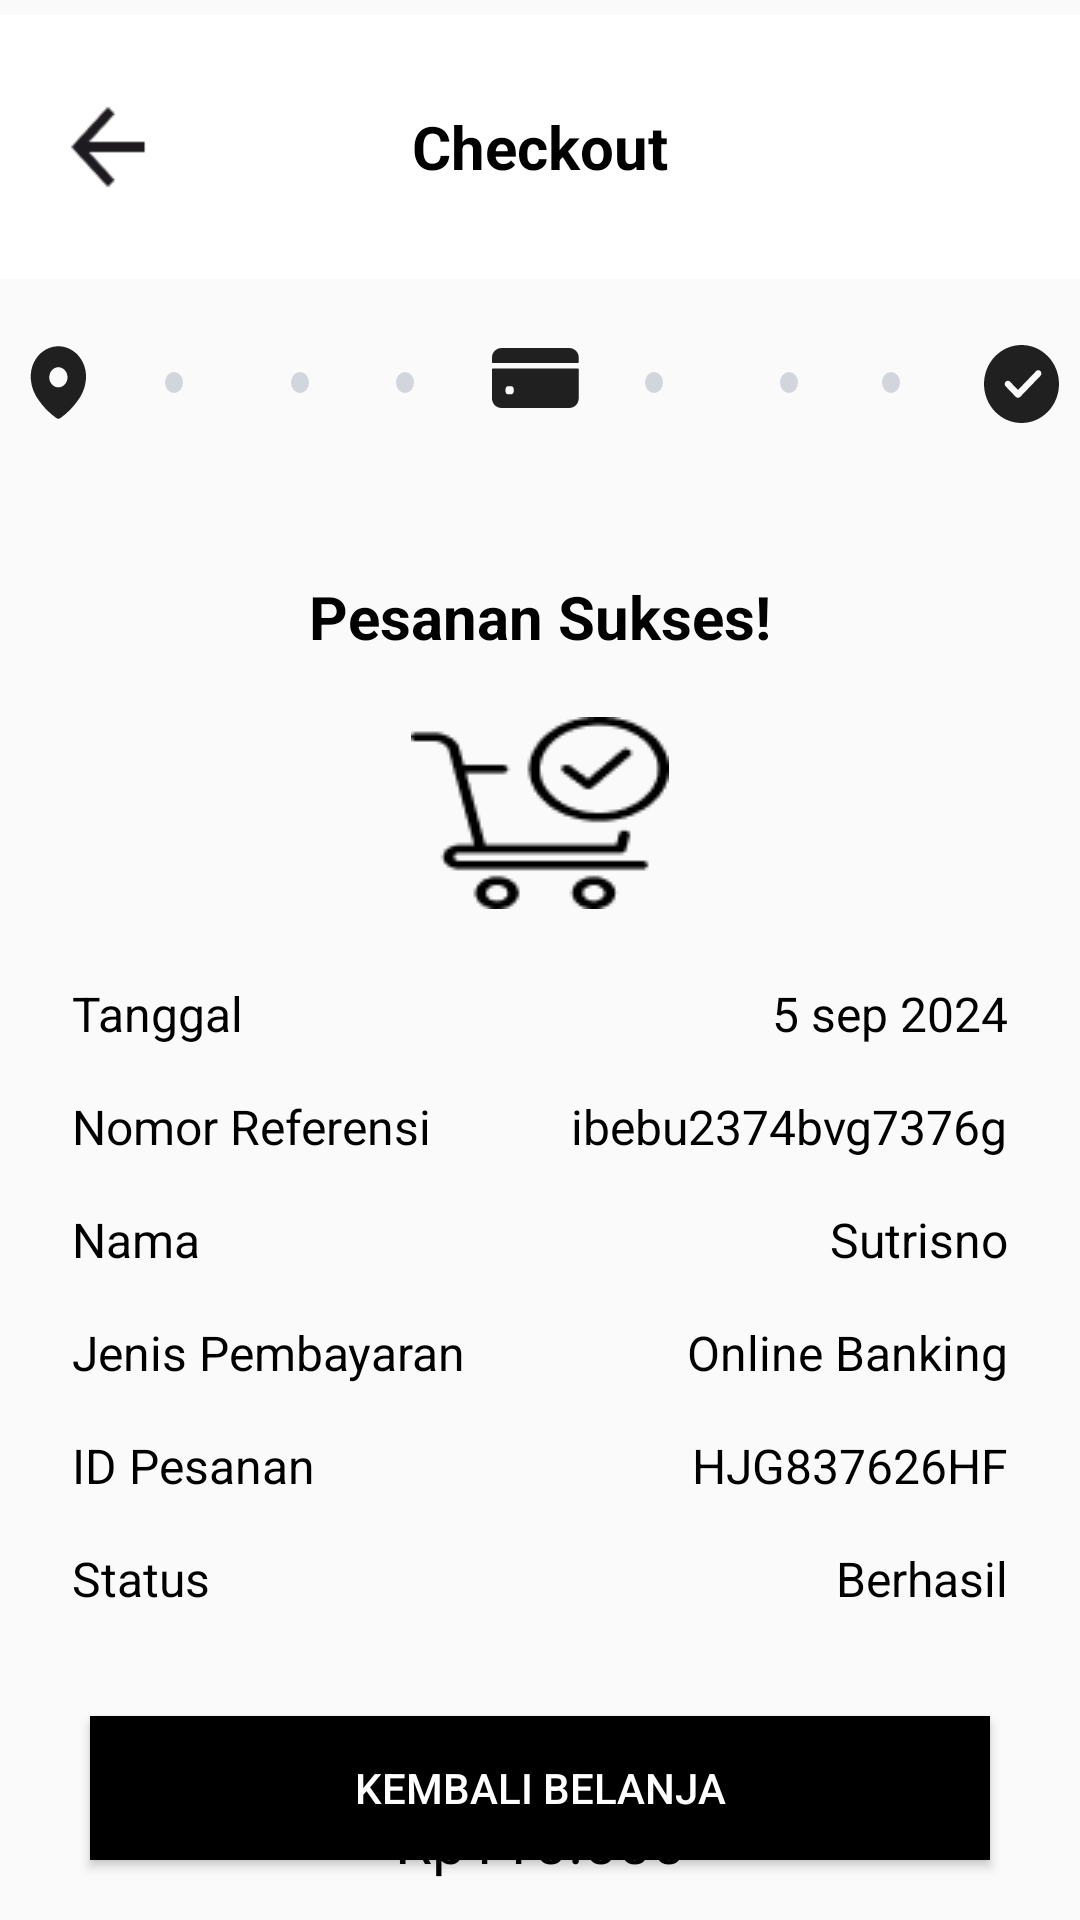

Icons on this 1080px x 1920px Android screen, each with its box as {"left": x1, "top": y1, "right": x2, "bottom": y2}:
back: {"left": 71, "top": 107, "right": 145, "bottom": 187}
keranjang: {"left": 411, "top": 717, "right": 669, "bottom": 909}
